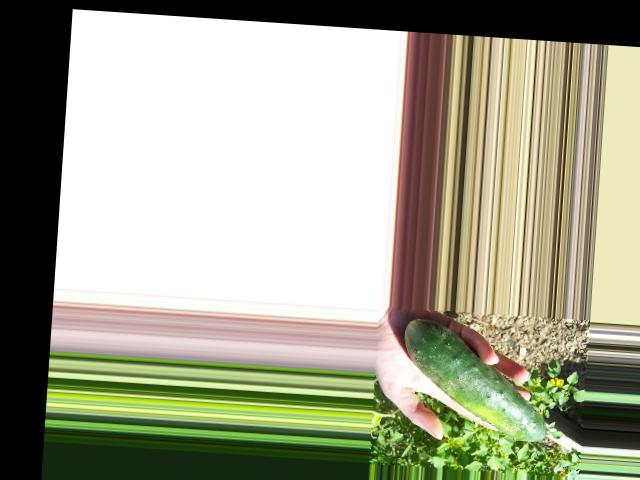cucumber: (399, 318, 554, 442)
